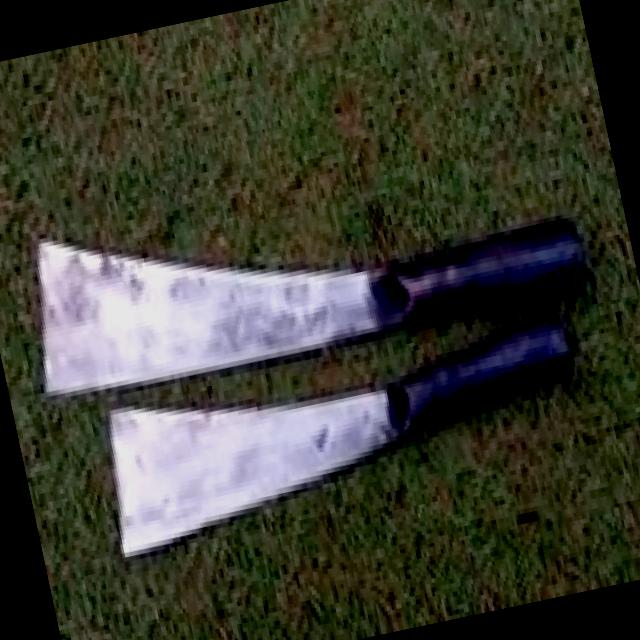eto: (38, 217, 585, 392)
